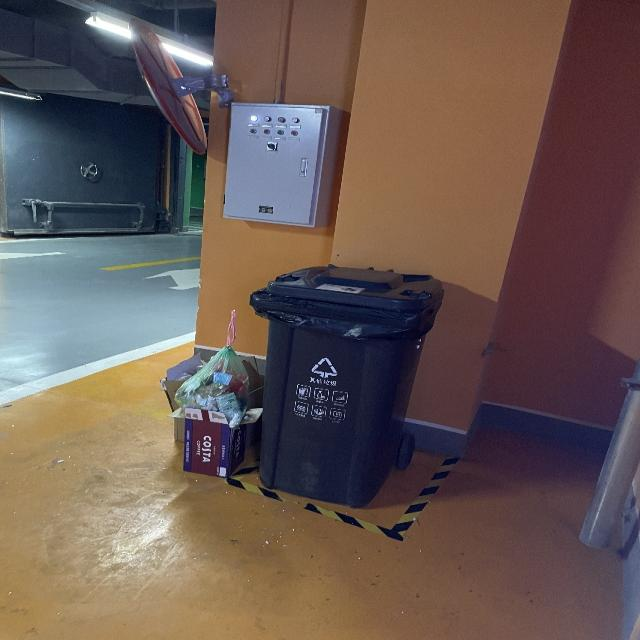garbage: (160, 308, 266, 478)
garbage_bin: (247, 263, 443, 508)
